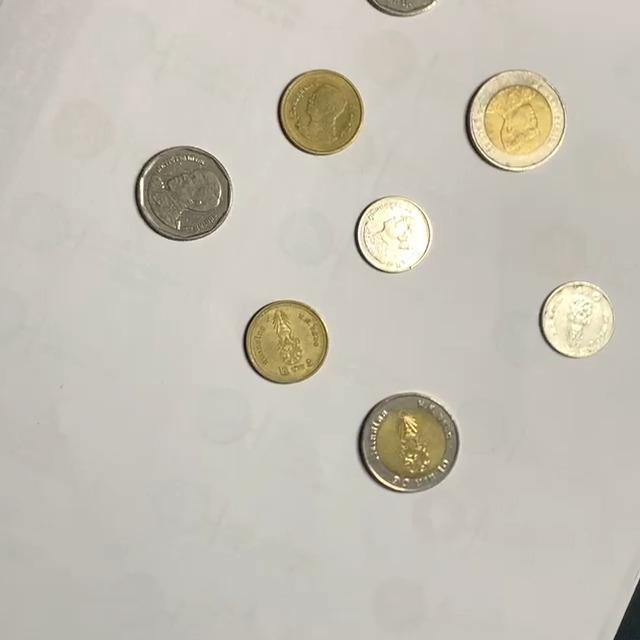1-baht: (356, 196, 434, 274), (540, 281, 617, 359)
10-baht: (468, 70, 567, 171), (360, 394, 461, 493)
2-baht: (279, 69, 366, 155), (244, 300, 330, 384)
5-baht: (136, 145, 235, 242)
